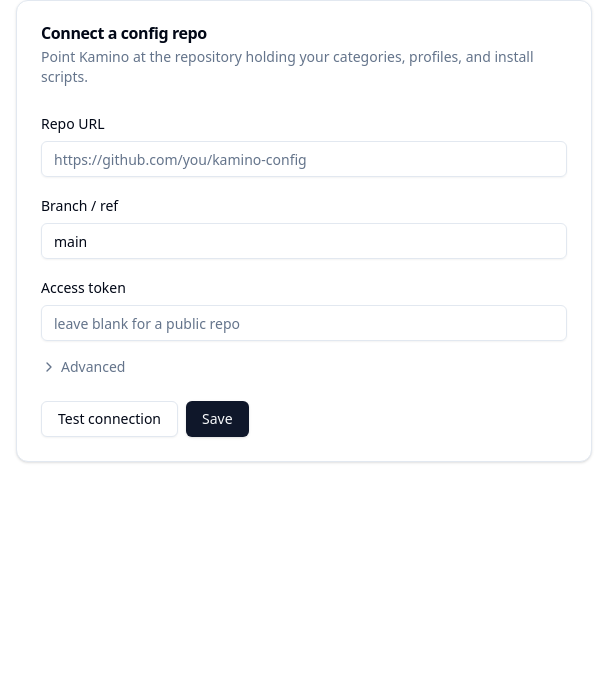
it: Connect › shows what Test connection found
Type "https://github.com/t0mer/cfg" into the field labelled "Repo URL". click: (304, 159)
box: [41, 141, 567, 177]
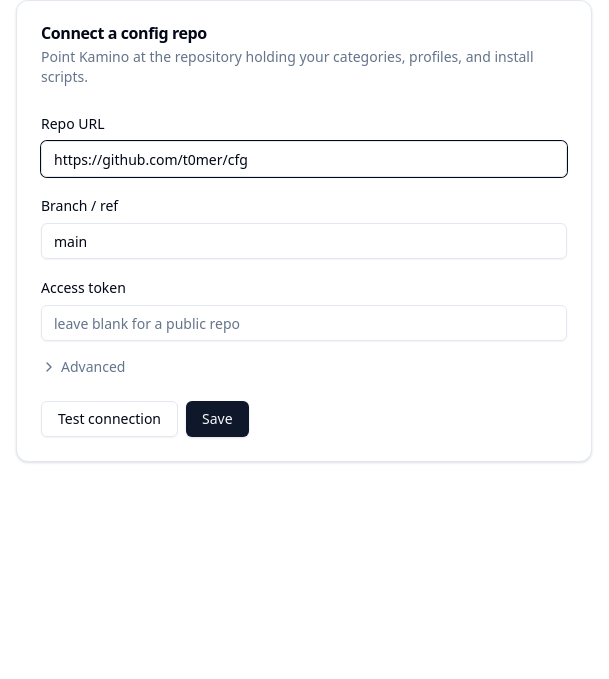
Click the button "Test connection". click: (110, 419)
box: [41, 401, 178, 437]
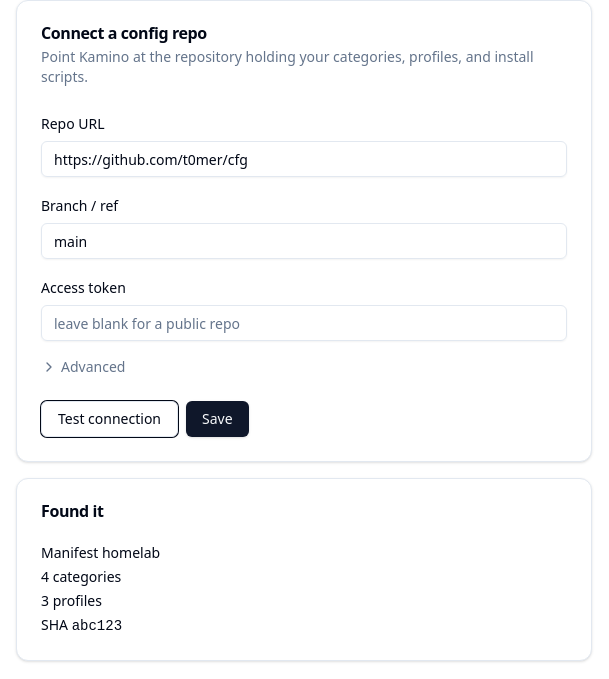
expect the text "homelab" is shown: met, box [102, 543, 160, 562]
expect the text "4 categories" is shown: met, box [41, 567, 121, 586]
expect the text "abc123" is shown: met, box [72, 618, 122, 634]
